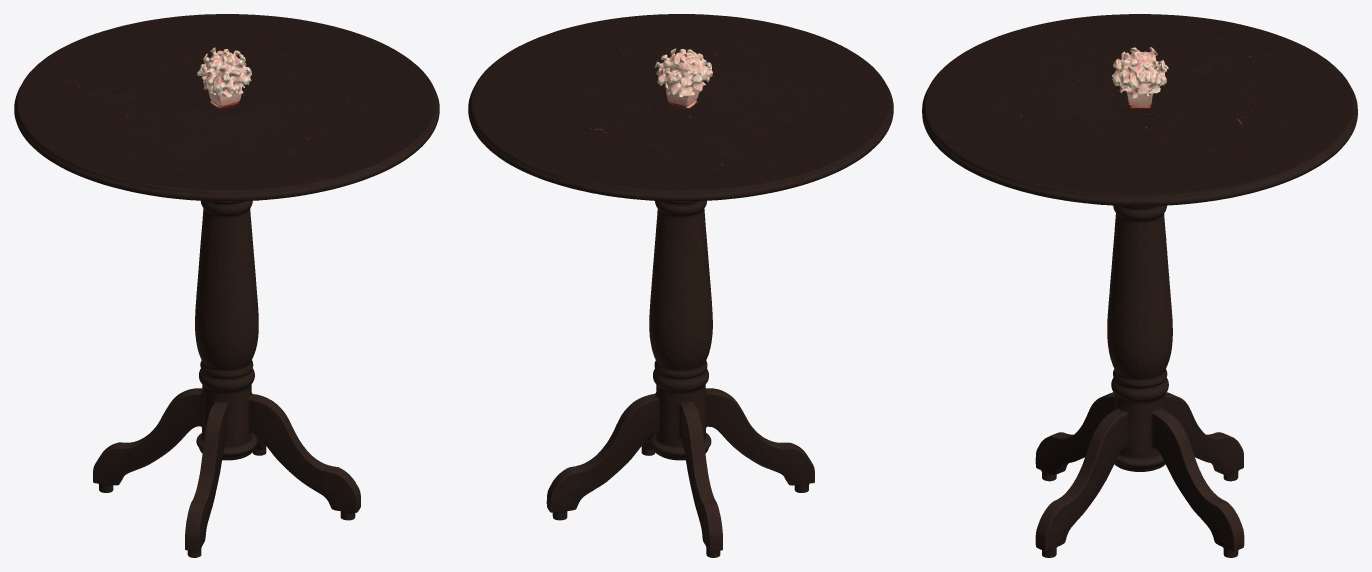
The model's file is Meshy_AI_Blossom_on_Mahogany_0928021949_texture.glb.
The picture shows the model from 3 angles, left to right: view 1: azimuth 30°, elevation 25°; view 2: azimuth 150°, elevation 25°; view 3: azimuth 270°, elevation 25°; orthographic projection. The views are drawn at different scales.
Visible parts, largest first — view 1: mesh1; view 2: mesh1; view 3: mesh1.
Boxes of the visible parts, box(x1,y1,x2,y2) form: mesh1: box(14, 14, 439, 557); mesh1: box(468, 14, 893, 557); mesh1: box(922, 14, 1357, 557).
Bounding box in the file's own units: 0.6776 × 0.7991 × 0.6775.
Materials: 1 (1 with a texture image).
